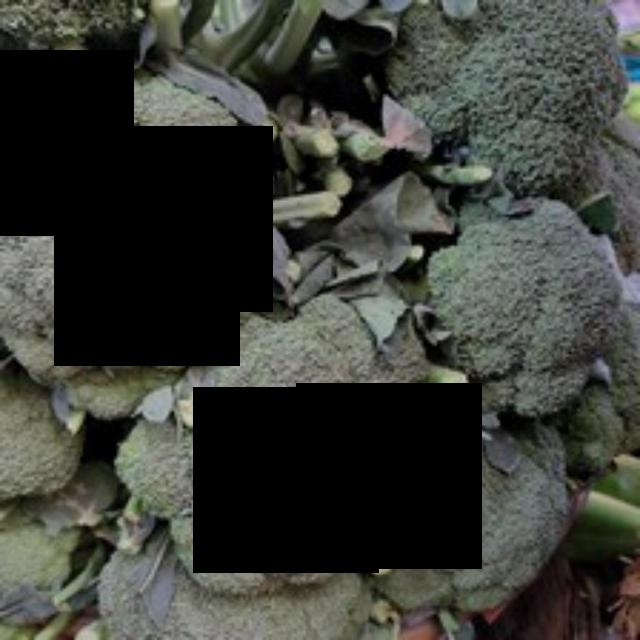broccoli: (0, 60, 286, 436)
